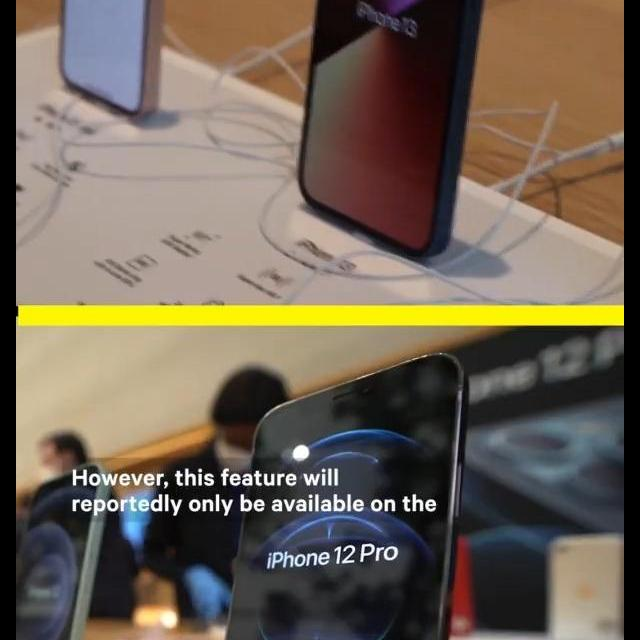Gloves: (185, 564, 231, 615)
Mask: (221, 444, 253, 471), (43, 466, 67, 484)
NO-Hardhat: (211, 368, 293, 426), (45, 432, 85, 456)
Person: (141, 360, 279, 618), (31, 428, 138, 592)
